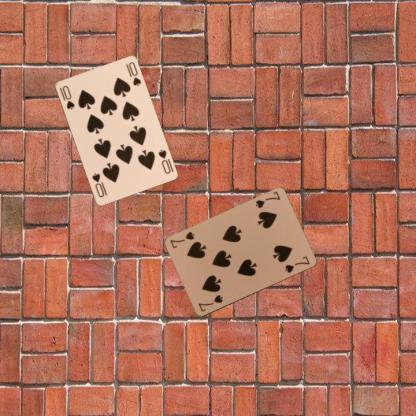10s: (56, 83, 76, 111), (156, 147, 172, 175)
7s: (252, 189, 282, 210), (196, 292, 224, 314)
